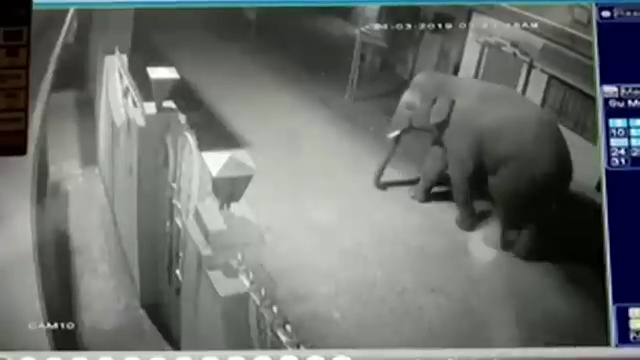Elephant: (374, 71, 573, 262)
